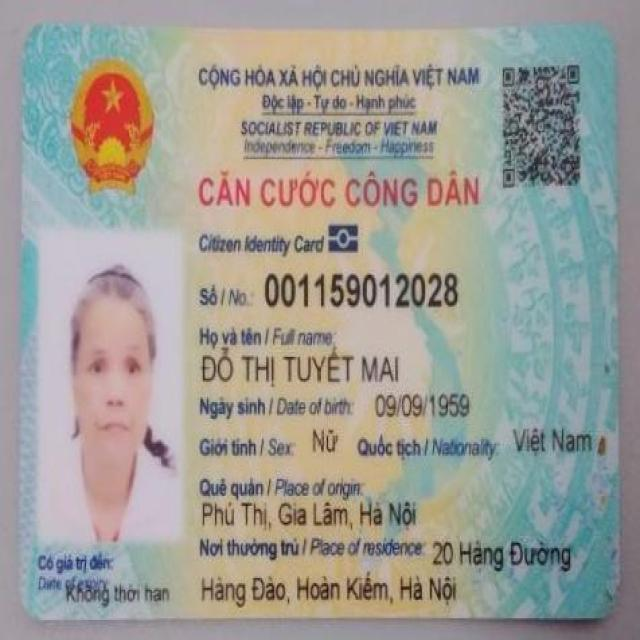current_place: (199, 569, 461, 610), (426, 539, 577, 570)
dob: (369, 386, 470, 420)
expire_date: (63, 579, 172, 611)
gender: (310, 422, 343, 461)
id: (263, 270, 461, 310)
name: (201, 344, 404, 389)
nationality: (506, 422, 605, 458)
origin_place: (198, 496, 422, 534)
